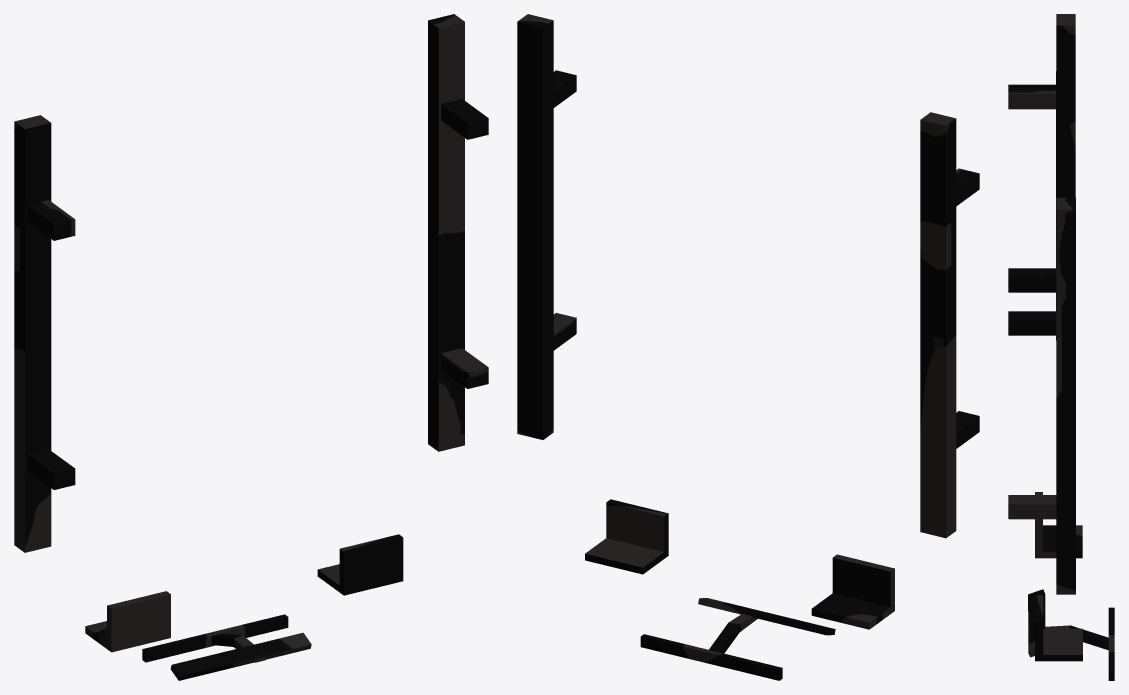
File: frl_apartment_monitor_stand.glb
3 renders of one model, left to right at view 1: azimuth 30°, elevation 25°; view 2: azimuth 150°, elevation 25°; view 3: azimuth 270°, elevation 25°, orthographic. The views are drawn at different scales.
Parts seen in each view (by area): view 1: frl_apartment_monitor_stand; view 2: frl_apartment_monitor_stand; view 3: frl_apartment_monitor_stand.
Boxes of the visible parts, x1=… form: frl_apartment_monitor_stand: x1=14, y1=14, x2=488, y2=680; frl_apartment_monitor_stand: x1=517, y1=14, x2=979, y2=680; frl_apartment_monitor_stand: x1=1008, y1=14, x2=1114, y2=680.
Bounding box in the file's own units: 0.5765 × 0.7396 × 0.1329.
Materials: 1 (1 with a texture image).
